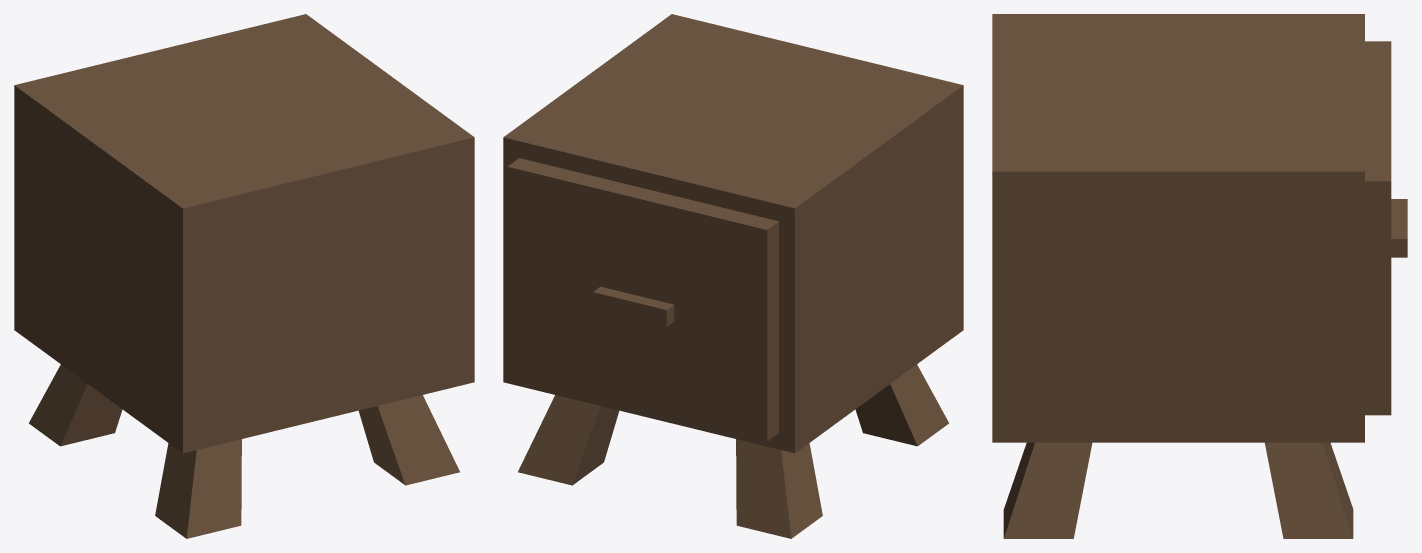
File: Closet.fbx
The picture shows the model from 3 angles, left to right: view 1: azimuth 30°, elevation 25°; view 2: azimuth 150°, elevation 25°; view 3: azimuth 270°, elevation 25°; orthographic projection. The views are drawn at different scales.
Visible parts, largest first — view 1: SM_Closet; view 2: SM_Closet, SM_ClosetDoor; view 3: SM_Closet, SM_ClosetDoor.
Part boxes in pixels (x1,y1,x2,y2): SM_Closet: [14, 14, 474, 538]; SM_Closet: [503, 14, 963, 538]; SM_ClosetDoor: [507, 158, 778, 441]; SM_Closet: [992, 14, 1364, 538]; SM_ClosetDoor: [1365, 41, 1407, 415].
Bounding box in the file's own units: 0.9 × 1 × 0.9918.
